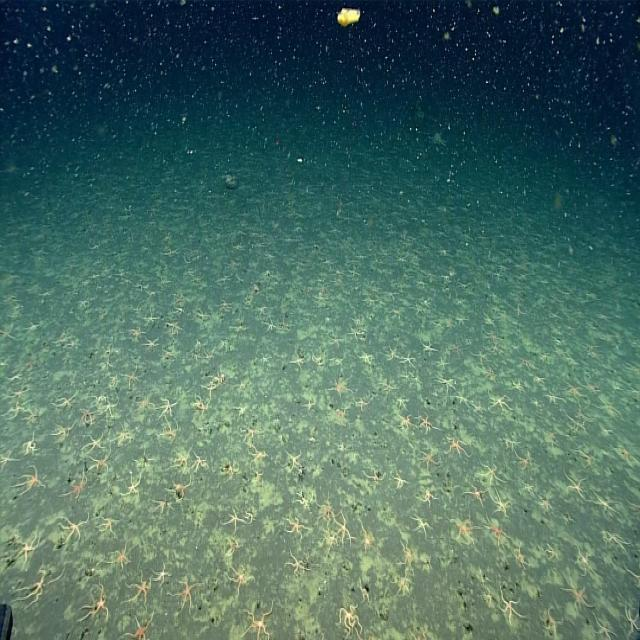brittle-stars: (240, 601, 273, 640), (496, 582, 524, 627), (17, 570, 49, 608), (16, 464, 46, 504), (83, 583, 110, 624), (173, 577, 198, 618), (562, 576, 591, 610), (127, 571, 152, 609), (338, 605, 365, 640), (484, 516, 509, 552), (448, 515, 476, 546), (125, 612, 155, 640), (59, 513, 85, 545), (446, 433, 470, 464), (479, 457, 504, 486), (15, 536, 39, 565), (64, 473, 88, 502), (487, 489, 511, 518), (563, 469, 586, 499), (332, 512, 352, 546), (228, 565, 254, 591), (538, 607, 560, 637), (220, 506, 245, 532), (358, 520, 376, 556), (109, 543, 131, 572), (284, 548, 306, 576), (622, 603, 640, 636), (97, 512, 118, 539), (285, 514, 305, 542), (416, 408, 436, 436), (594, 613, 614, 640), (488, 390, 509, 415), (419, 444, 437, 473), (220, 457, 238, 486), (151, 561, 171, 587), (412, 513, 431, 540), (400, 538, 416, 570), (89, 454, 112, 476), (241, 423, 263, 445), (125, 471, 141, 501), (150, 495, 173, 515), (122, 365, 142, 388), (52, 392, 74, 412), (513, 450, 533, 472), (51, 422, 71, 444), (396, 410, 414, 434), (160, 418, 178, 442), (391, 468, 408, 493), (436, 373, 456, 394), (328, 378, 349, 398), (223, 536, 240, 560), (284, 450, 303, 471), (175, 448, 191, 472), (113, 425, 134, 443), (191, 452, 208, 474), (22, 434, 39, 456), (418, 484, 435, 506), (159, 398, 177, 418), (566, 381, 583, 402), (86, 435, 104, 454), (288, 352, 306, 371), (357, 348, 374, 368), (419, 336, 436, 356), (80, 405, 94, 428), (482, 365, 498, 385), (545, 541, 559, 563), (400, 350, 416, 369), (381, 376, 396, 394), (385, 344, 399, 363), (244, 504, 256, 526), (144, 310, 158, 328), (357, 393, 369, 414), (263, 316, 276, 335), (510, 377, 524, 394), (219, 297, 232, 312), (145, 336, 159, 349)
